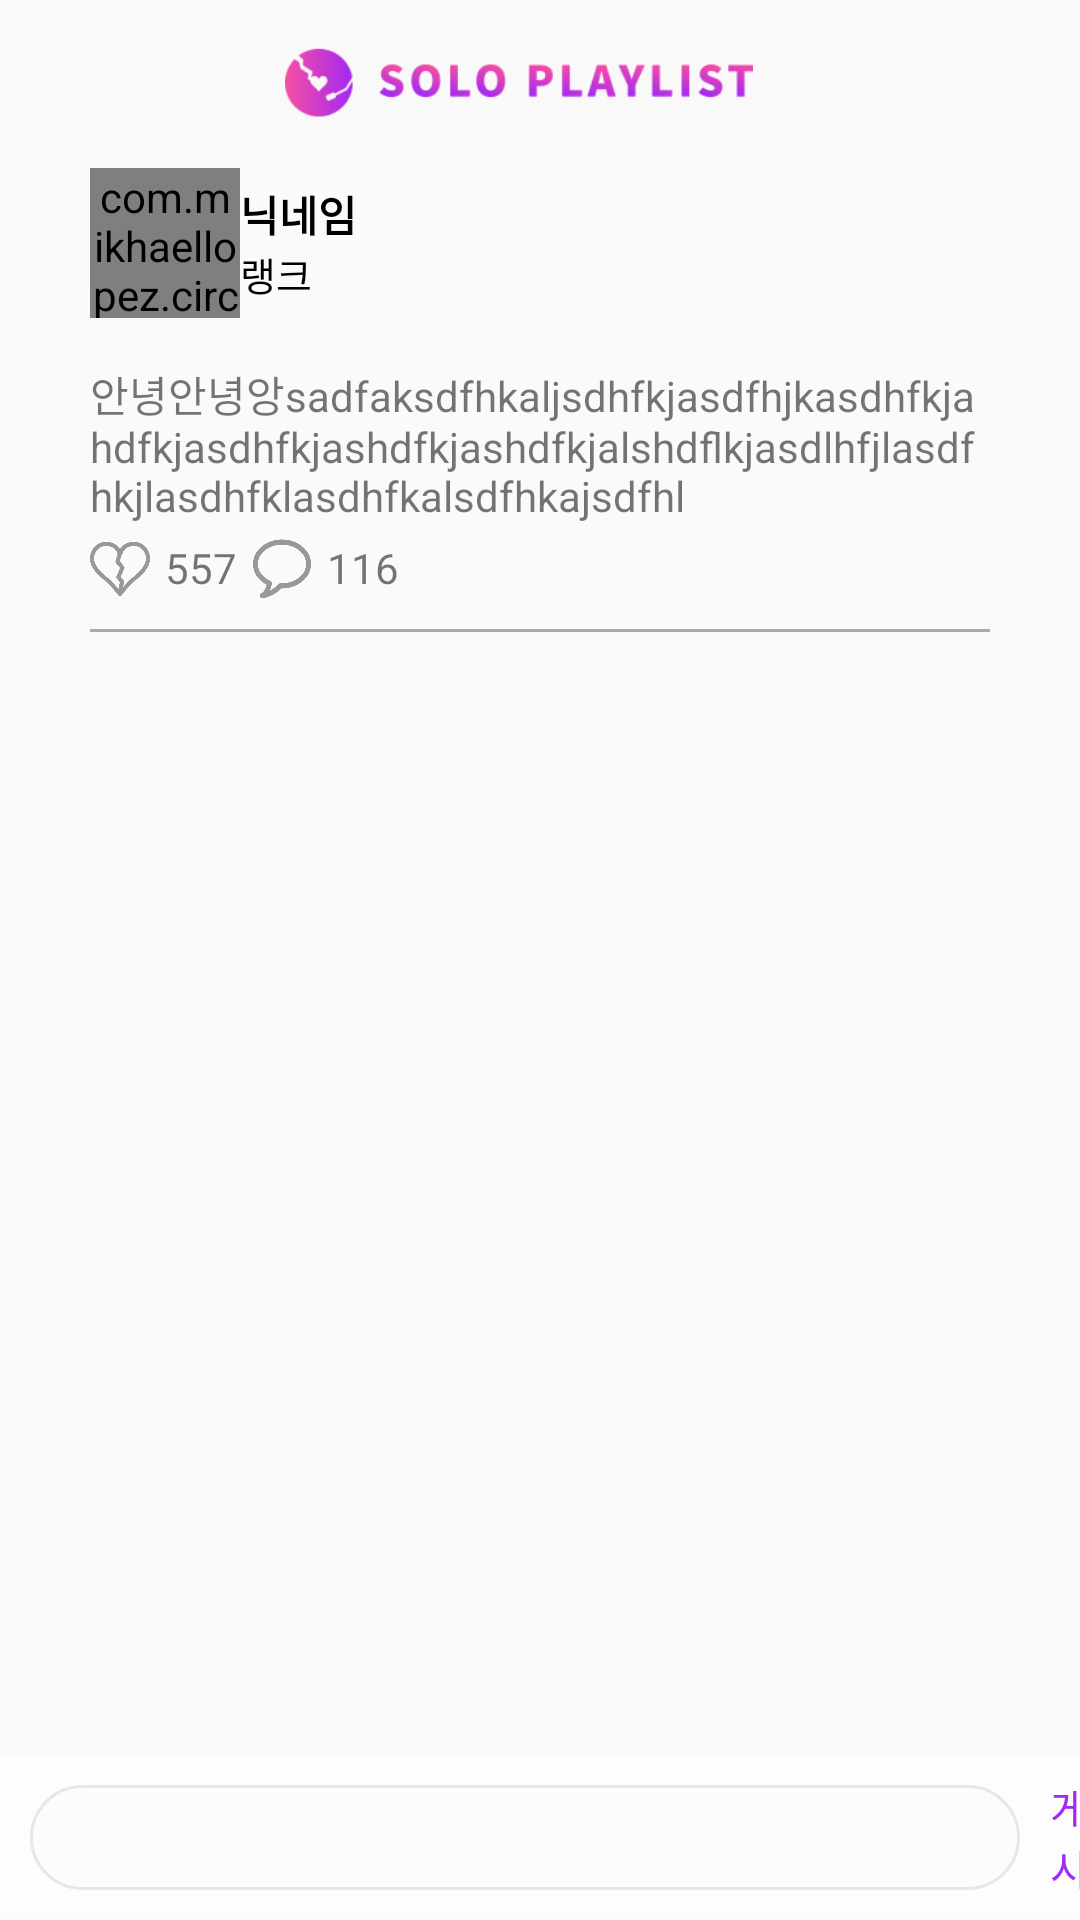

Where icons sit on this 1080 x 1920 app screen, as box(x1, y1, x2, y2):
comment: box(253, 539, 311, 598)
